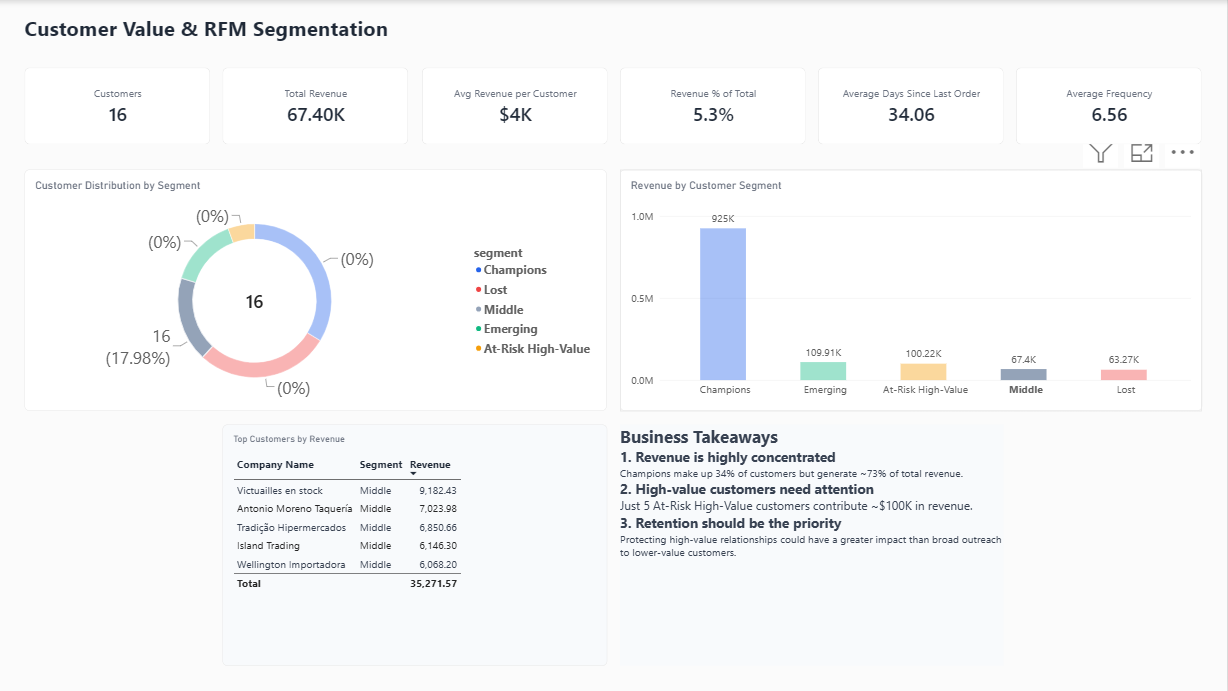

Layout of this report page (visuals, bound fields, positions):
{"tool":"powerbi","page":{"name":"Page 1","canvas":[1920,1080],"ordinal":0},"visuals":[{"type":"donutChart","title":"Customer Distribution by Segment","fields":{"Category":["public rfm_analysis.segment"],"Y":["CountNonNull(public rfm_analysis.segment)"]},"box":[40,265,910,377.5],"z":0},{"type":"cardVisual","fields":{"Data":["public rfm_analysis.Total Revenue1"]},"box":[350,105,290,120],"z":2},{"type":"cardVisual","fields":{"Data":["public rfm_analysis.Customers"]},"box":[40,105,290,120],"z":3},{"type":"cardVisual","fields":{"Data":["public rfm_analysis.Avg Revenue per Customer"]},"box":[660,105,290,120],"z":4},{"type":"cardVisual","fields":{"Data":["public rfm_analysis.Revenue % of Total"]},"box":[970,105,290,120],"z":6},{"type":"columnChart","title":"Revenue by Customer Segment","fields":{"Category":["public rfm_analysis.segment"],"Y":["public rfm_analysis.Total Revenue"]},"box":[970,265,910,377.5],"z":7},{"type":"cardVisual","fields":{"Data":["public rfm_analysis.Median Days Since Last Order"]},"box":[1280,105,290,120],"z":8},{"type":"cardVisual","fields":{"Data":["public rfm_analysis.Average Order Duration"]},"box":[1590,105,290,120],"z":9},{"type":"tableEx","title":"Top Customers by Revenue","fields":{"Values":["public rfm_analysis.company_name","public rfm_analysis.segment","public rfm_analysis.Total Revenue"]},"box":[349.6,663.2,601.3,377.5],"z":10},{"type":"textbox","box":[40,20,600,65],"z":11},{"type":"textbox","box":[970.8,663.2,599.3,377.5],"z":12}]}

Visuals, with their boxes in screenshot pixels (x1, y1, x2, y2), scaled from the page's 1920x1080 canvas onto the 1228x691 screenshot:
"Customer Distribution by Segment" donutChart: box=[26, 170, 608, 411]
cardVisual - public rfm_analysis.Total Revenue1: box=[224, 67, 409, 144]
cardVisual - public rfm_analysis.Customers: box=[26, 67, 211, 144]
cardVisual - public rfm_analysis.Avg Revenue per Customer: box=[422, 67, 608, 144]
cardVisual - public rfm_analysis.Revenue % of Total: box=[620, 67, 806, 144]
"Revenue by Customer Segment" columnChart: box=[620, 170, 1202, 411]
cardVisual - public rfm_analysis.Median Days Since Last Order: box=[819, 67, 1004, 144]
cardVisual - public rfm_analysis.Average Order Duration: box=[1017, 67, 1202, 144]
"Top Customers by Revenue" tableEx: box=[224, 424, 608, 666]
textbox: box=[26, 13, 409, 54]
textbox: box=[621, 424, 1004, 666]
